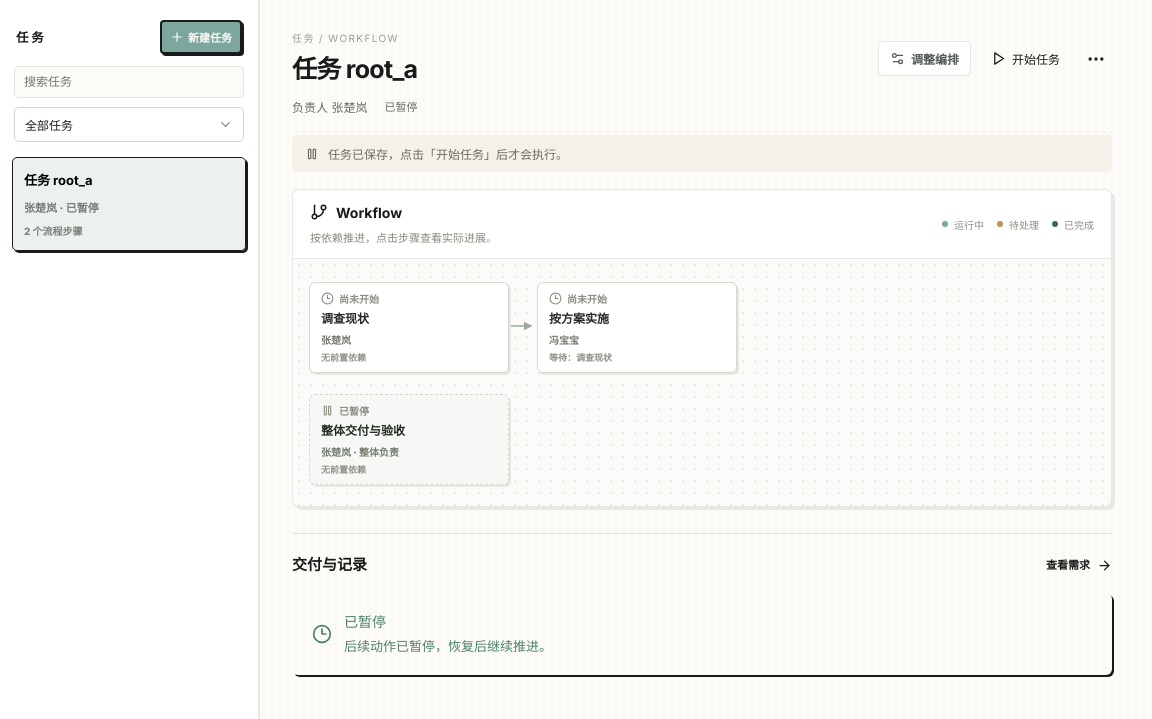
Test: 独立任务工作区 › 编排保存冲突后保留步骤草稿，并读取服务端最新revision
Click the button "调整编排".
click(924, 58)  # box top-left (878, 41), bottom-right (971, 76)
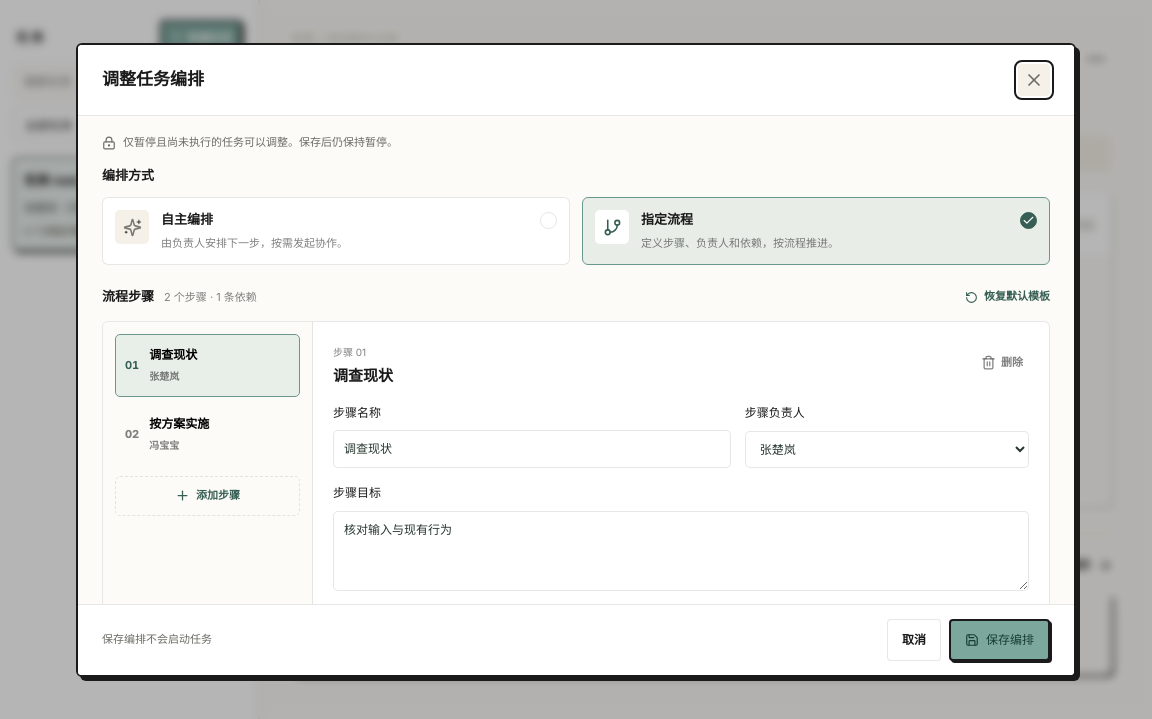
Replace the text in the field labelled "步骤名称" with "保留我的调查草稿" at (532, 449), box top-left (333, 430), bottom-right (731, 468)
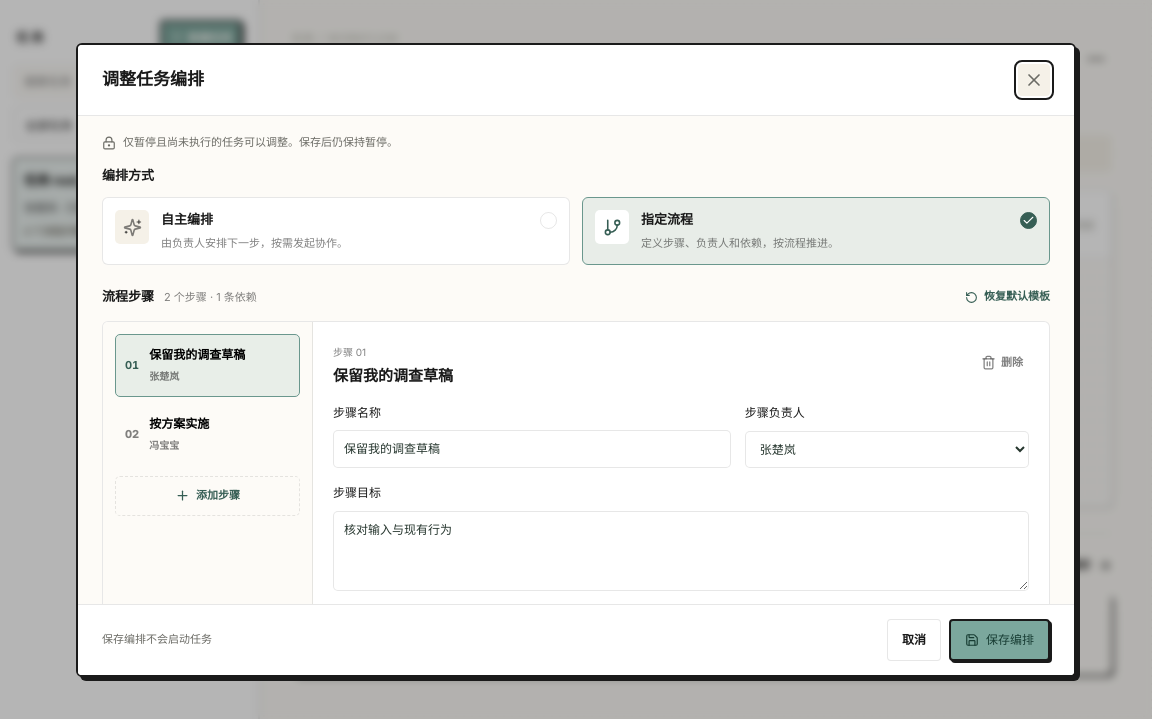
Click the button "保存编排".
click(1000, 640)  # box top-left (949, 619), bottom-right (1050, 661)
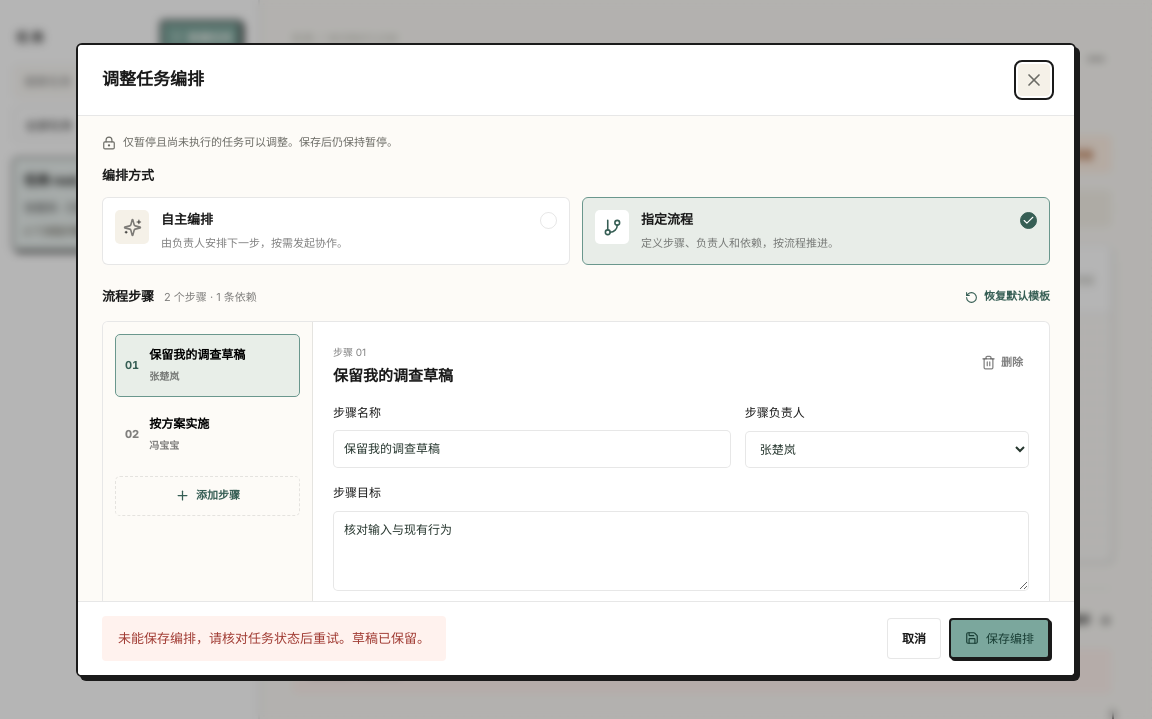
Now the message shows "草稿已保留", box top-left (118, 630), bottom-right (430, 646)
